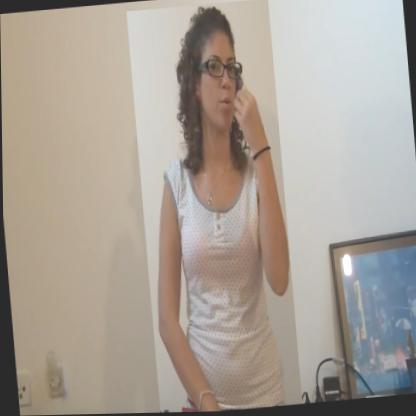Food: (126, 0, 301, 414)
